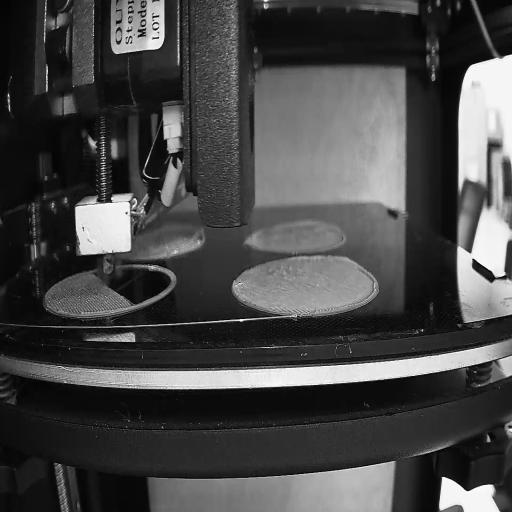over_extrusion: (358, 258, 380, 311)
